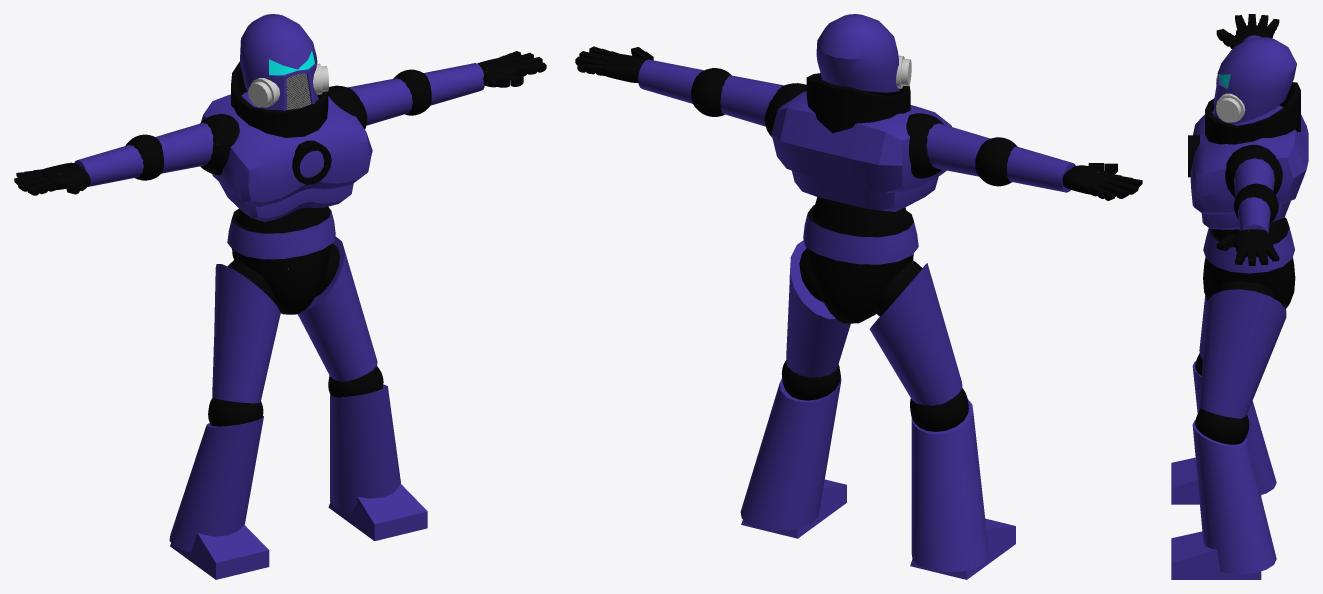
The model's file is marine export.fbx.
3 views of the same model, side by side, from view 1: azimuth 30°, elevation 25°; view 2: azimuth 150°, elevation 25°; view 3: azimuth 270°, elevation 25° (orthographic). The views are drawn at different scales.
Visible parts, largest first — view 1: Torso, leg_lower_r, leg_lower_l, leg_upper_r, Head, leg_upper_l, arm_upper_r, foot_r, foot_l, arm_lower_r, arm_upper_l, arm_lower_l (+2 smaller); view 2: Torso, leg_lower_r, leg_lower_l, leg_upper_r, Head, leg_upper_l, arm_upper_r, arm_lower_r, arm_lower_l, arm_upper_l, hand_r, hand_l (+2 smaller); view 3: Torso, leg_lower_l, leg_upper_l, Head, foot_l, arm_upper_l, leg_lower_r, arm_lower_l, hand_l, foot_r, hand_r, leg_upper_r.
Boxes of the visible parts, x1,y1,x2,y2 form: Torso: (201, 61, 372, 314); leg_lower_r: (169, 397, 263, 552); leg_lower_l: (328, 366, 400, 513); leg_upper_r: (212, 259, 280, 403); Head: (240, 14, 328, 110); leg_upper_l: (298, 236, 377, 381); arm_upper_r: (155, 114, 239, 175); foot_r: (170, 524, 269, 579); foot_l: (328, 483, 427, 541); arm_lower_r: (74, 134, 163, 186); arm_upper_l: (328, 78, 412, 129); arm_lower_l: (393, 63, 484, 115); Torso: (771, 73, 951, 323); leg_lower_r: (910, 388, 989, 571); leg_lower_l: (740, 360, 841, 530); leg_upper_r: (869, 260, 962, 405); Head: (816, 14, 911, 92); leg_upper_l: (786, 240, 850, 377); arm_upper_r: (906, 113, 989, 178); arm_lower_r: (975, 137, 1075, 192); arm_lower_l: (638, 59, 731, 116); arm_upper_l: (720, 75, 806, 137); hand_r: (1062, 163, 1142, 200); hand_l: (575, 46, 653, 82); Torso: (1188, 82, 1308, 308); leg_lower_l: (1192, 408, 1276, 574); leg_upper_l: (1199, 281, 1286, 418); Head: (1212, 37, 1296, 124); foot_l: (1171, 531, 1261, 579); arm_upper_l: (1225, 144, 1282, 197); leg_lower_r: (1192, 353, 1276, 494); arm_lower_l: (1234, 183, 1278, 233); hand_l: (1216, 229, 1279, 265); foot_r: (1171, 457, 1261, 504); hand_r: (1216, 14, 1279, 48); leg_upper_r: (1199, 295, 1207, 359).
Size of the model in its own units: 1.96 by 1.8 by 0.4584.
